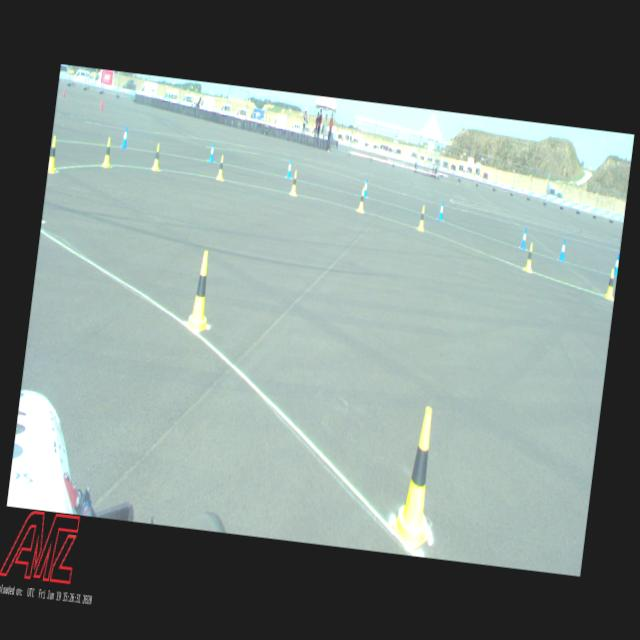blue_cone: (520, 226, 528, 249), (558, 238, 566, 261), (120, 126, 128, 148), (208, 142, 215, 162), (613, 253, 619, 276), (286, 158, 292, 178), (438, 200, 444, 220), (363, 178, 368, 198)
yellow_cone: (388, 404, 446, 555), (184, 249, 217, 334), (47, 136, 61, 173), (100, 136, 114, 168), (604, 268, 617, 299), (522, 242, 534, 272), (151, 142, 162, 170), (416, 205, 426, 231), (217, 154, 226, 180), (357, 188, 366, 212), (290, 170, 298, 196)
